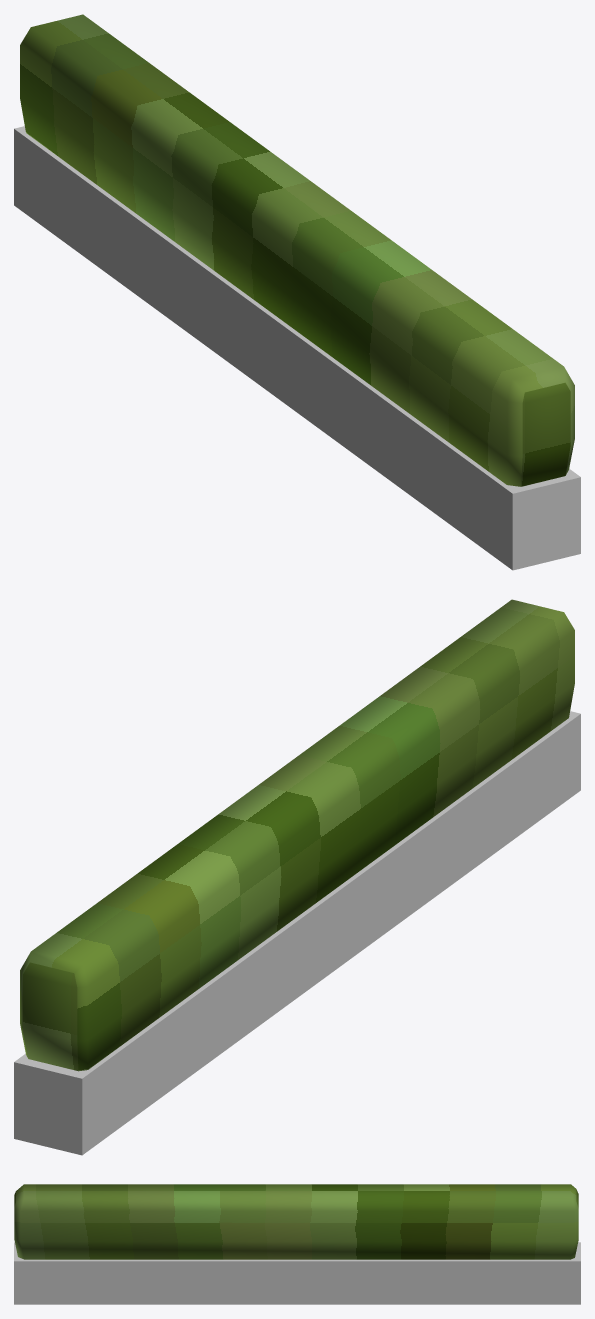
The model's file is JpHouseJ_Hedge02c.fbx.
The picture shows the model from 3 angles, top to bottom: view 1: azimuth 30°, elevation 25°; view 2: azimuth 150°, elevation 25°; view 3: azimuth 270°, elevation 25°; orthographic projection. The views are drawn at different scales.
Parts seen in each view (by area): view 1: JpHouseJ_Hedge02c; view 2: JpHouseJ_Hedge02c; view 3: JpHouseJ_Hedge02c.
Part boxes in pixels (x1,y1,x2,y2): JpHouseJ_Hedge02c: (14,14,580,570); JpHouseJ_Hedge02c: (14,599,580,1155); JpHouseJ_Hedge02c: (14,1184,580,1304).
Bounding box in the file's own units: 1.01 × 2.59 × 12.79.
